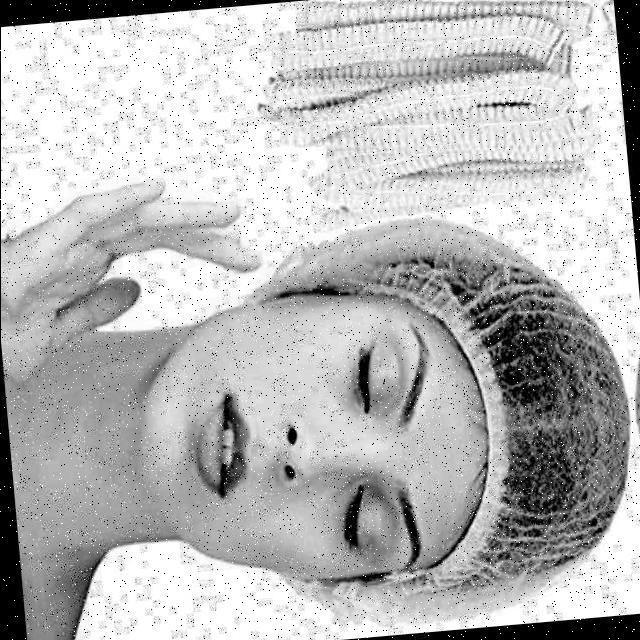gloves: (431, 206, 634, 624)
no_hairnet: (203, 331, 321, 538)
